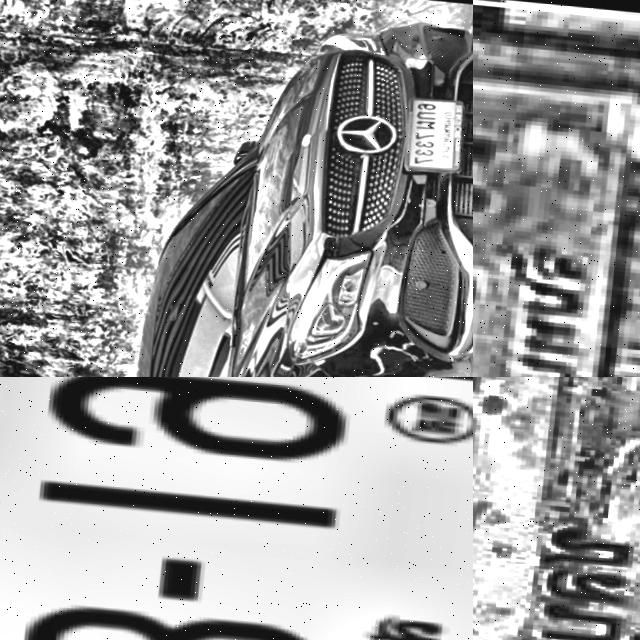license-plate: (0, 377, 473, 640), (473, 5, 640, 377), (473, 377, 640, 640), (400, 89, 468, 172)
